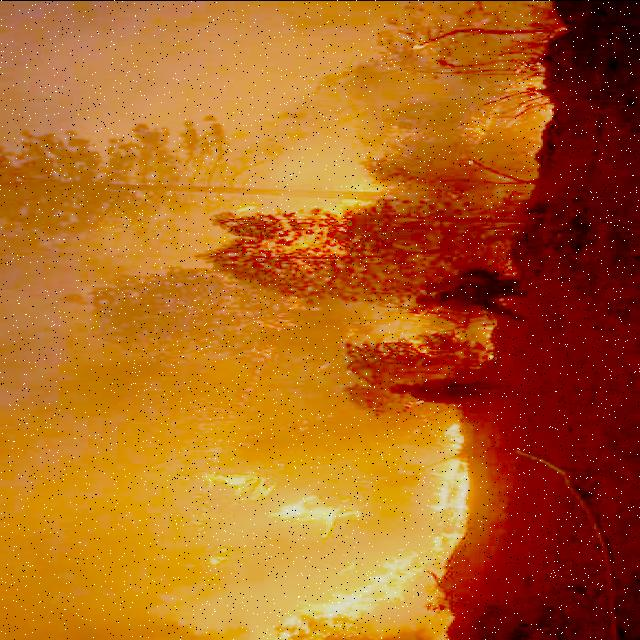api: (278, 549, 437, 637), (434, 420, 482, 563), (266, 494, 370, 541), (187, 462, 279, 502), (309, 181, 399, 221), (208, 549, 244, 567)
asap: (1, 1, 505, 134), (137, 563, 381, 640)
